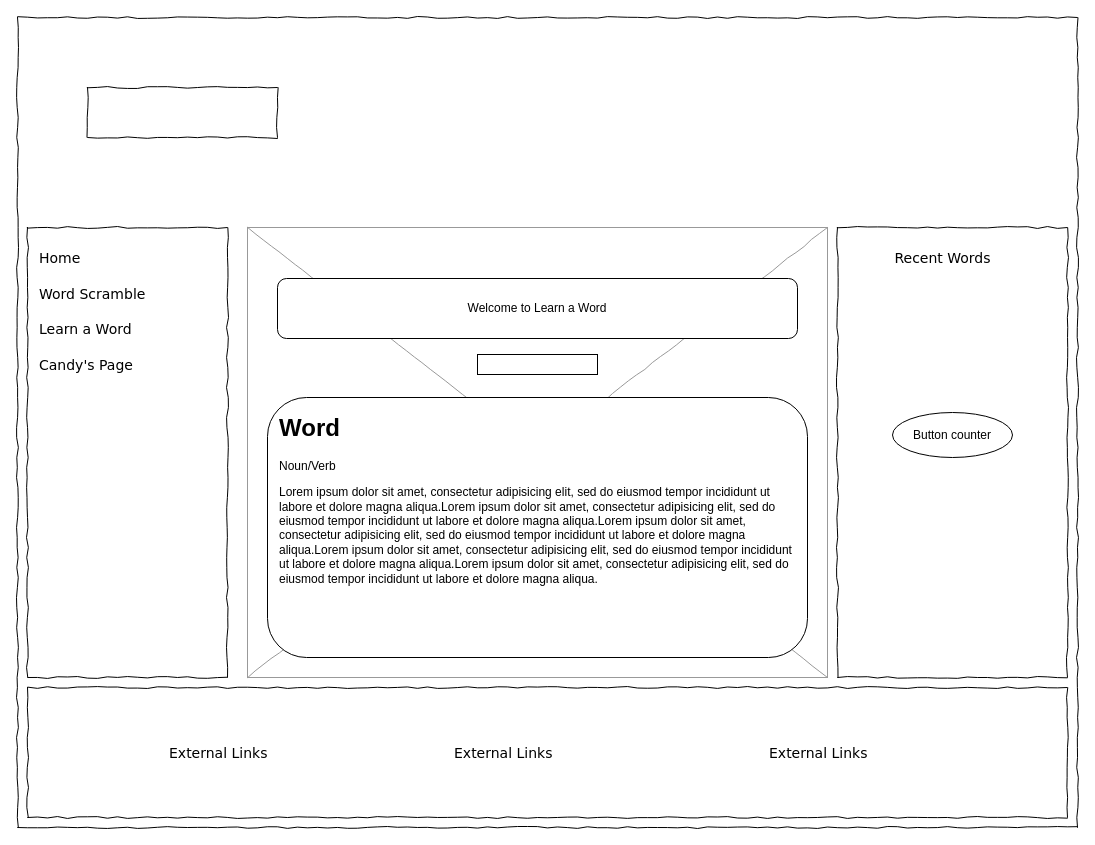
This 1095x845 diagram has some shape labels left out. The shapes that lost their labels are listed below. From the top down, each one's box as (x1, y1, x2, y2) in pixels, then its label:
(86, 86, 278, 138): LOGO
(476, 354, 598, 374): New Word!
